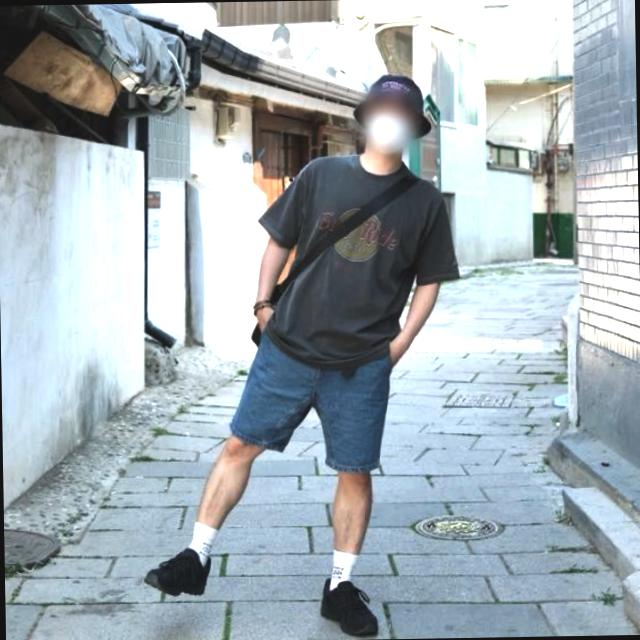shortpants: (227, 331, 394, 474)
shortsleeve: (254, 148, 463, 371)
